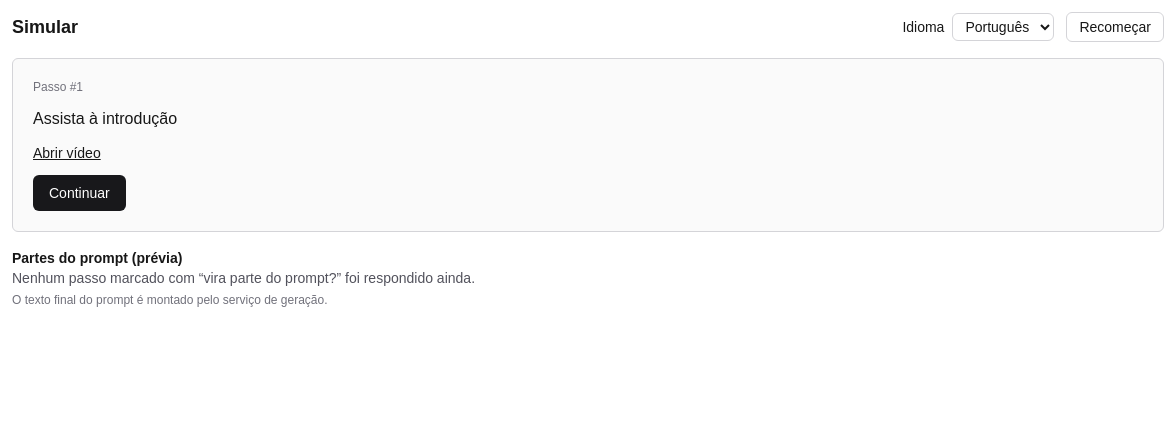
Scenario: FlowSimulator › needs a choice before continuing a required question
Click the button "Continuar". click: x=79, y=193
box: [33, 175, 126, 211]
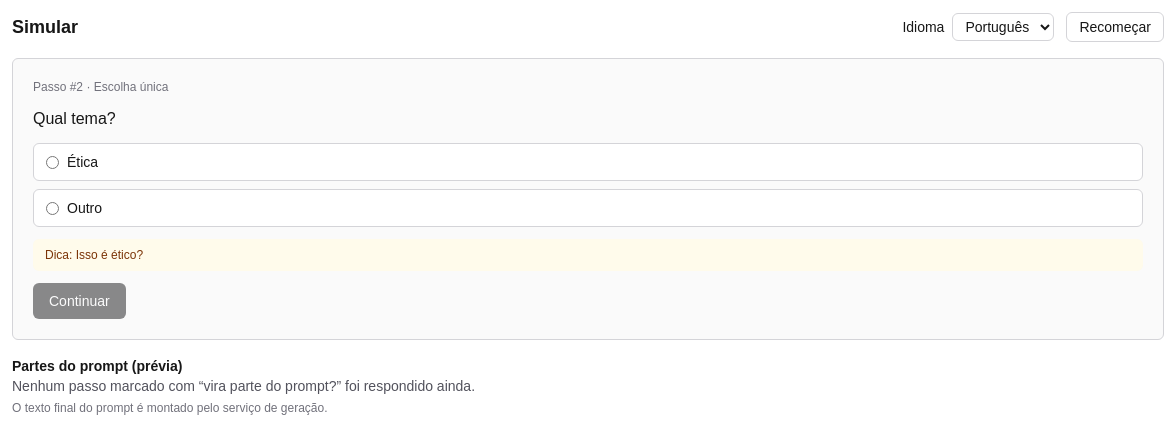
Expected: the button "Continuar" is disabled, [33, 283, 126, 319]
